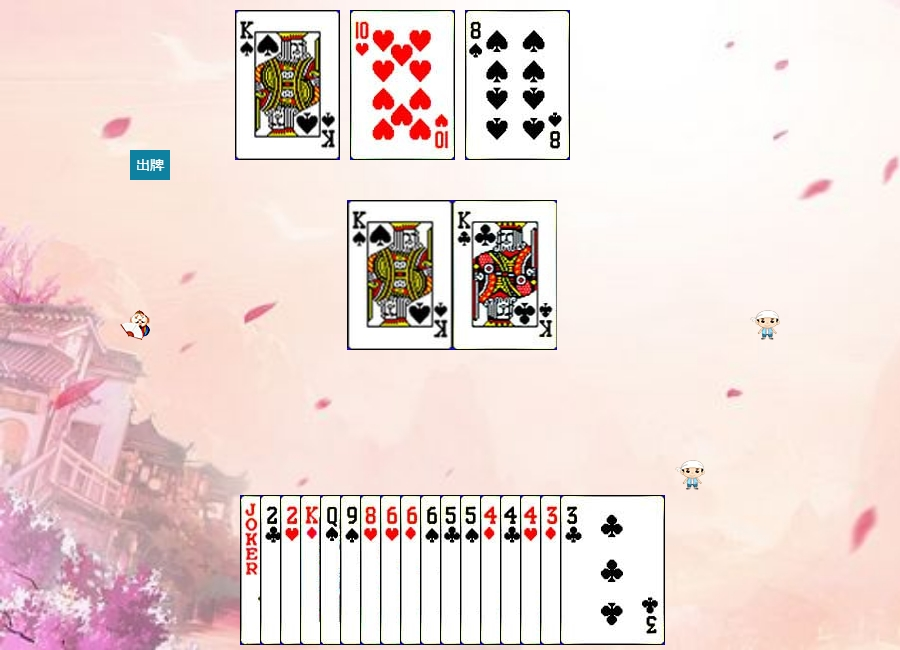10~3: (350, 10, 455, 160)
12~4: (320, 495, 425, 645)
13~1: (300, 495, 405, 645)
13~2: (453, 200, 558, 350)
13~4: (235, 10, 340, 160), (348, 200, 453, 350)
15~2: (260, 495, 365, 645)
15~3: (280, 495, 385, 645)
18~4: (240, 495, 345, 645)
3~1: (540, 495, 645, 645)
3~2: (560, 495, 665, 645)
4~1: (480, 495, 585, 645)
4~2: (500, 495, 605, 645)
4~3: (520, 495, 625, 645)
5~2: (440, 495, 545, 645)
5~4: (460, 495, 565, 645)
6~1: (400, 495, 505, 645)
6~3: (380, 495, 485, 645)
6~4: (420, 495, 525, 645)
8~3: (360, 495, 465, 645)
8~4: (465, 10, 570, 160)
9~4: (340, 495, 445, 645)
